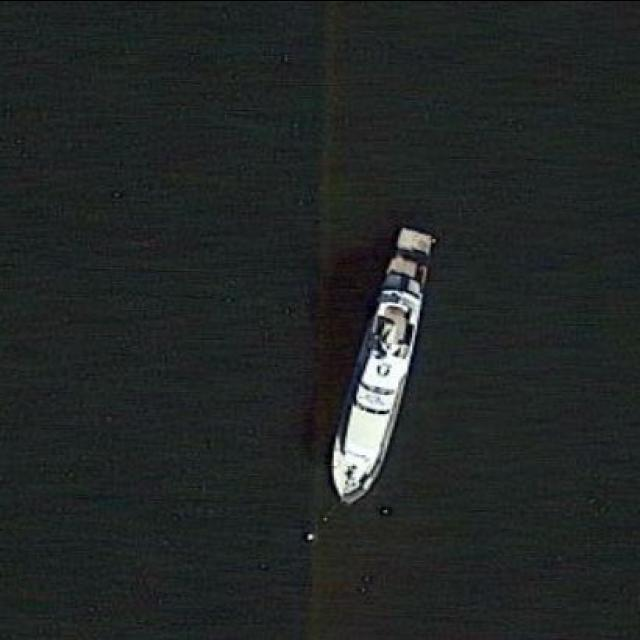ship: (324, 224, 442, 506)
